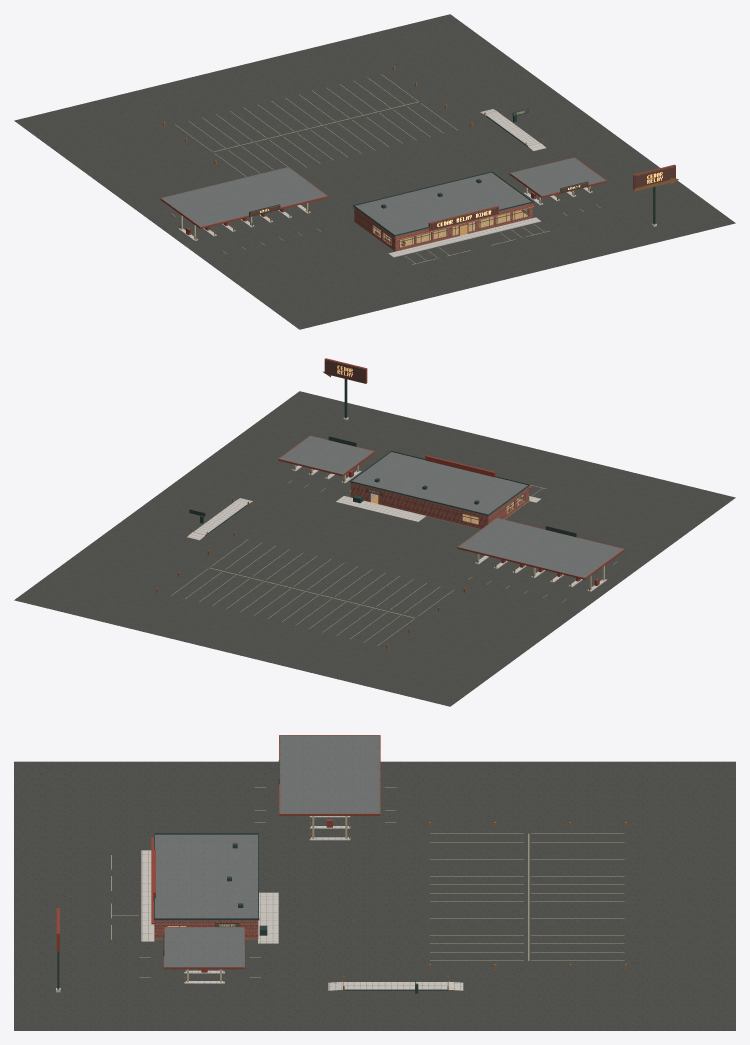
File: cedar-relay-1960-far.glb
3 renders of one model, top to bottom at view 1: azimuth 30°, elevation 25°; view 2: azimuth 150°, elevation 25°; view 3: azimuth 270°, elevation 25°, orthographic. The views are drawn at different scales.
Visible parts, largest first — view 1: lot, building_shell, diesel_canopy, car_canopy, sign_name; view 2: lot, building_shell, diesel_canopy, car_canopy, sign_name_rear; view 3: lot, building_shell, diesel_canopy, car_canopy.
Boxes of the visible parts, x1,y1,x2,y2 form: lot: (14,14,735,329); building_shell: (353,171,534,251); diesel_canopy: (160,167,328,240); car_canopy: (509,157,606,205); sign_name: (635,166,675,188); lot: (14,391,735,706); building_shell: (349,450,531,529); diesel_canopy: (457,518,624,591); car_canopy: (278,435,374,483); sign_name_rear: (325,360,365,382); lot: (14,761,735,1030); building_shell: (151,833,259,939); diesel_canopy: (278,735,380,840); car_canopy: (163,927,244,983).
Size of what is drawn, in the model's own units: 127 by 15.56 by 144.
11 materials, 11 textured.
